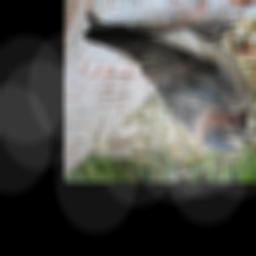Swallow: (79, 10, 256, 155)
